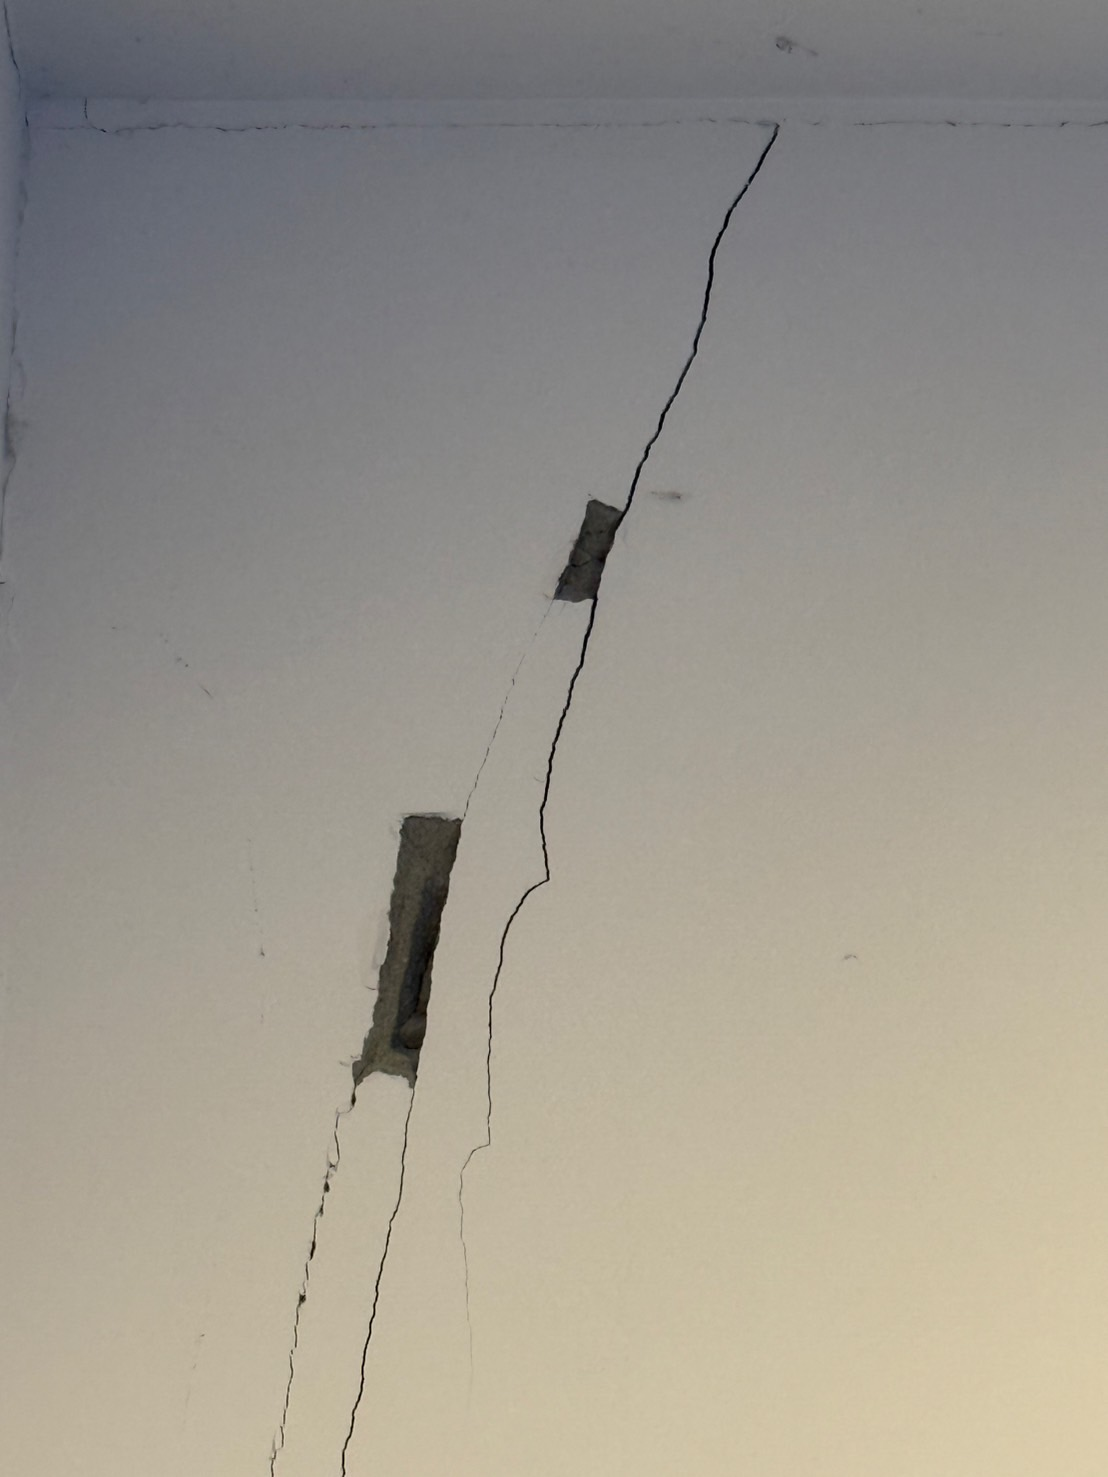Medium: (307, 186, 858, 1196)
